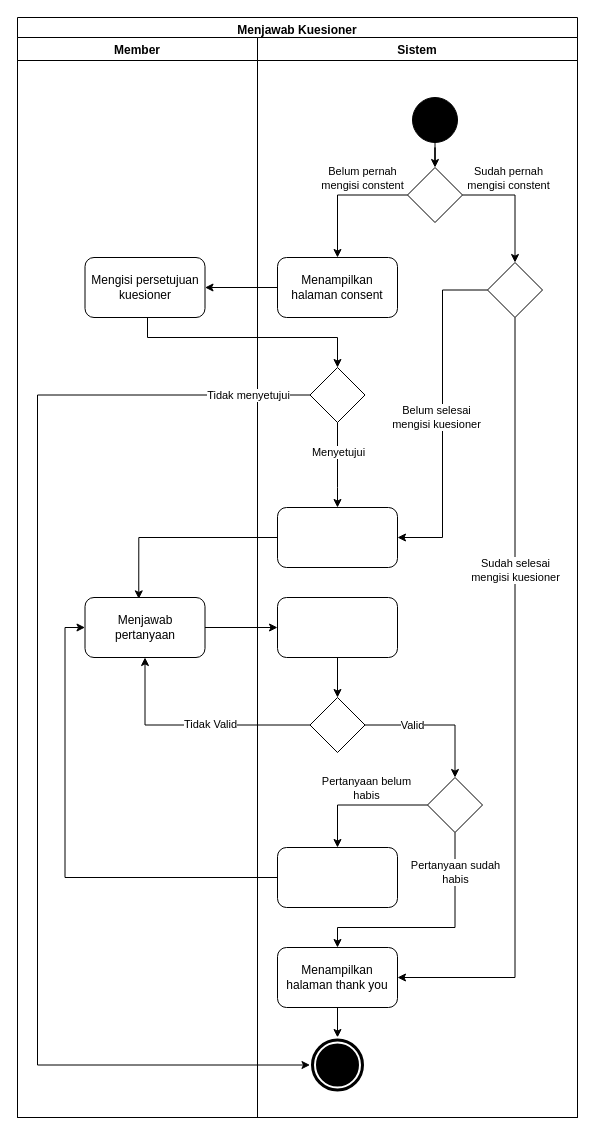
The diagram is 595 pixels wide and 1135 high, and some of its shapes have lost their labels. The shapes that lost their labels are listed below. From the top down, each one's centre as x and y in pixels, then its label:
[337,537]: Menampilkan halaman pertanyaan
[337,627]: Melakukan validasi jawaban pertanyaan
[337,877]: Menampilkan halaman selanjutnya
